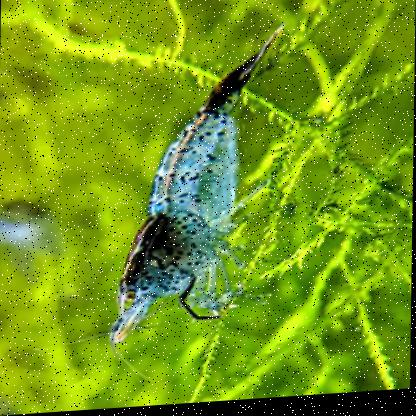shrimp: (105, 21, 285, 350)
